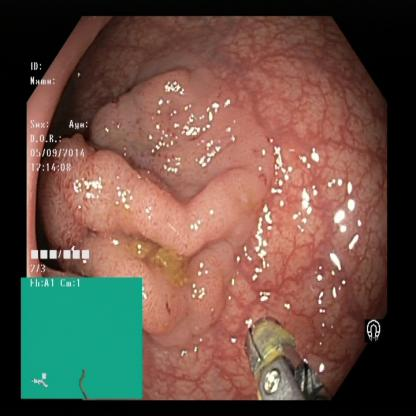Labels: (21, 241, 146, 403), (27, 60, 86, 177)
Polyps: (43, 140, 168, 248)
